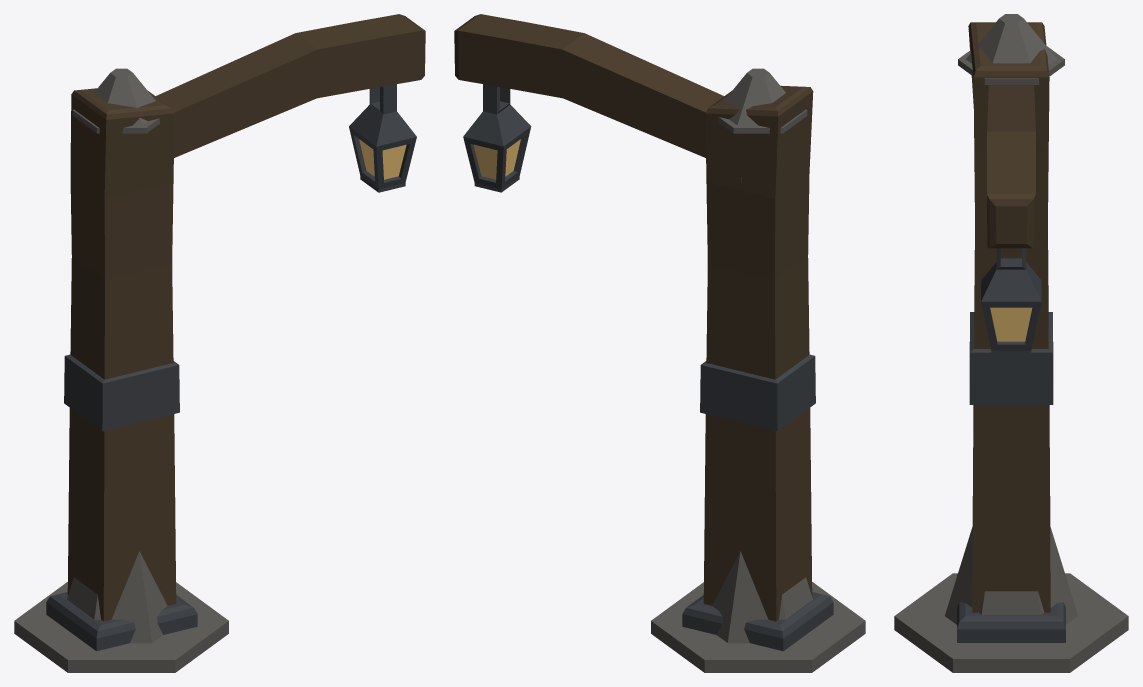
The model's file is SM_Outpost_Lamp.fbx.
3 renders of one model, left to right at view 1: azimuth 30°, elevation 25°; view 2: azimuth 150°, elevation 25°; view 3: azimuth 270°, elevation 25°, orthographic. The views are drawn at different scales.
Parts seen in each view (by area): view 1: Holz Lampe, Metall Lampe; view 2: Holz Lampe, Metall Lampe; view 3: Holz Lampe, Metall Lampe.
Boxes of the visible parts, bbox=[...] form: Holz Lampe: bbox=[46, 14, 425, 651]; Metall Lampe: bbox=[14, 68, 228, 672]; Holz Lampe: bbox=[454, 14, 833, 651]; Metall Lampe: bbox=[651, 68, 865, 672]; Holz Lampe: bbox=[957, 22, 1065, 642]; Metall Lampe: bbox=[894, 14, 1128, 672].
Bounding box in the file's own units: 246 × 350 × 121.
